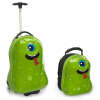luggage: (6, 1, 49, 98)
